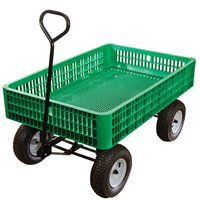Carts: (2, 9, 197, 197)
